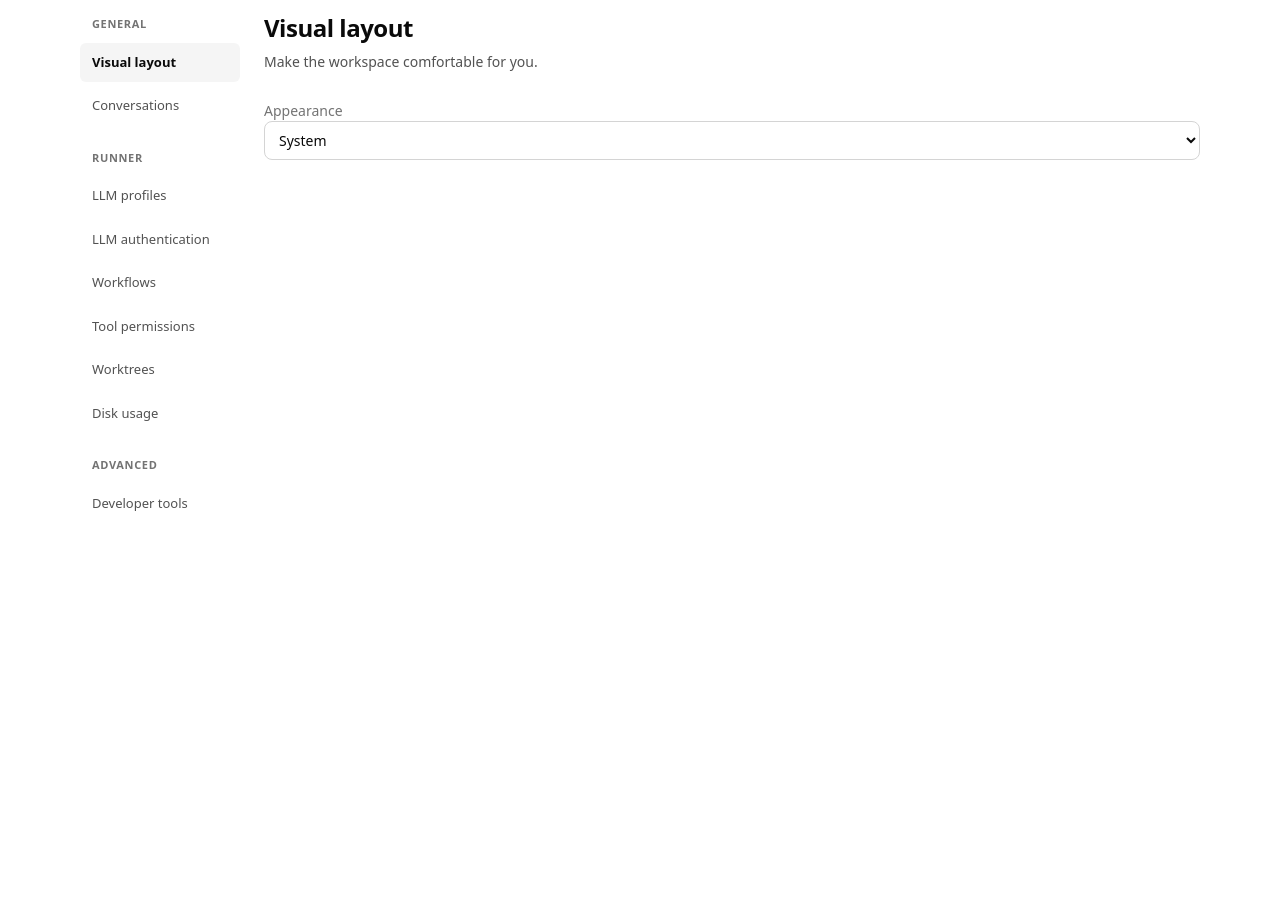
Scenario: suggestions remain advisory and failures do not block editing
Click the button "LLM profiles" at (160, 196), box [80, 176, 240, 216]
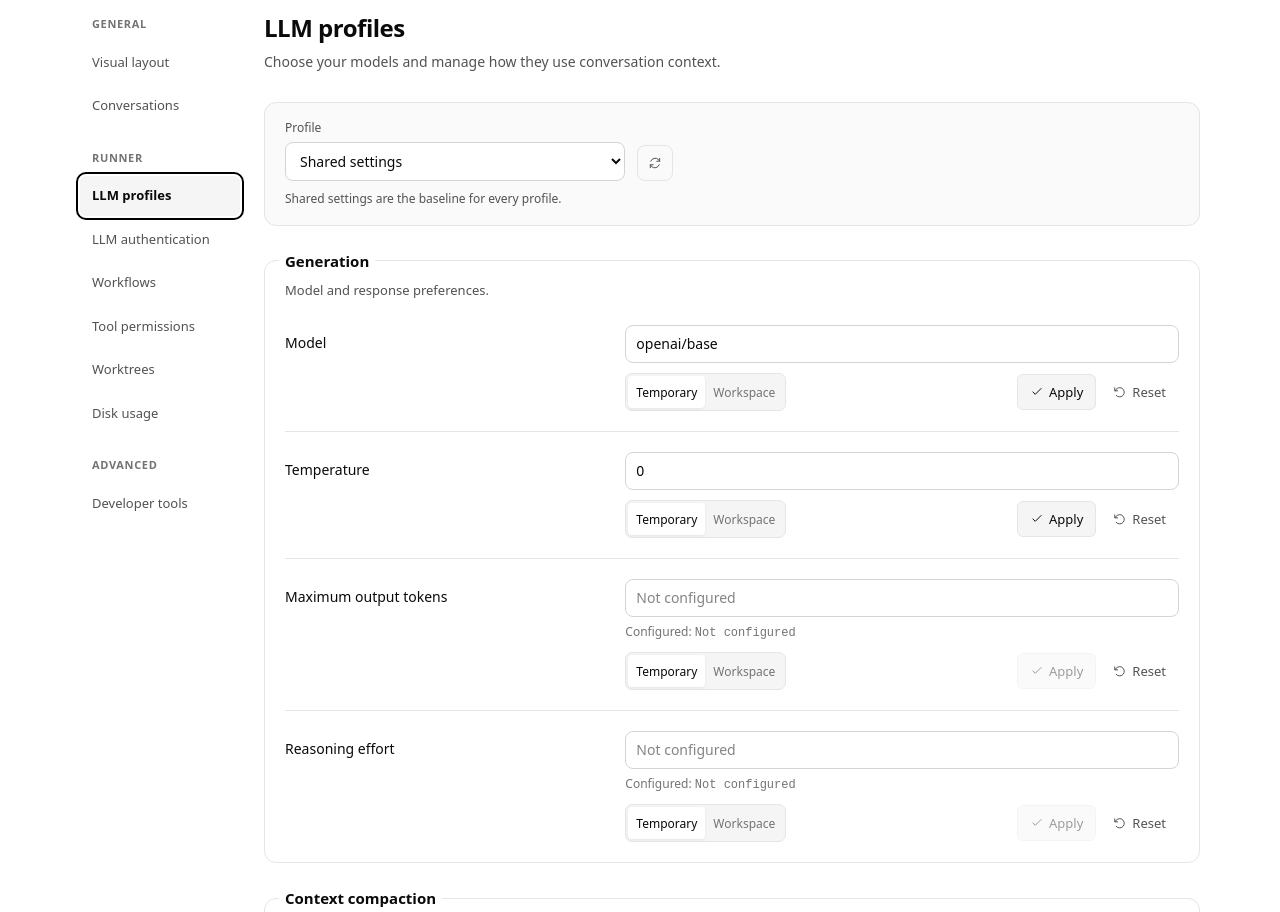
Expected: the form named "Edit Model" is shown, [285, 305, 1179, 432]
Replace the text in the field labelled "Model" with "router/vendor/custom:tag" at (902, 344), box [625, 325, 1179, 363]
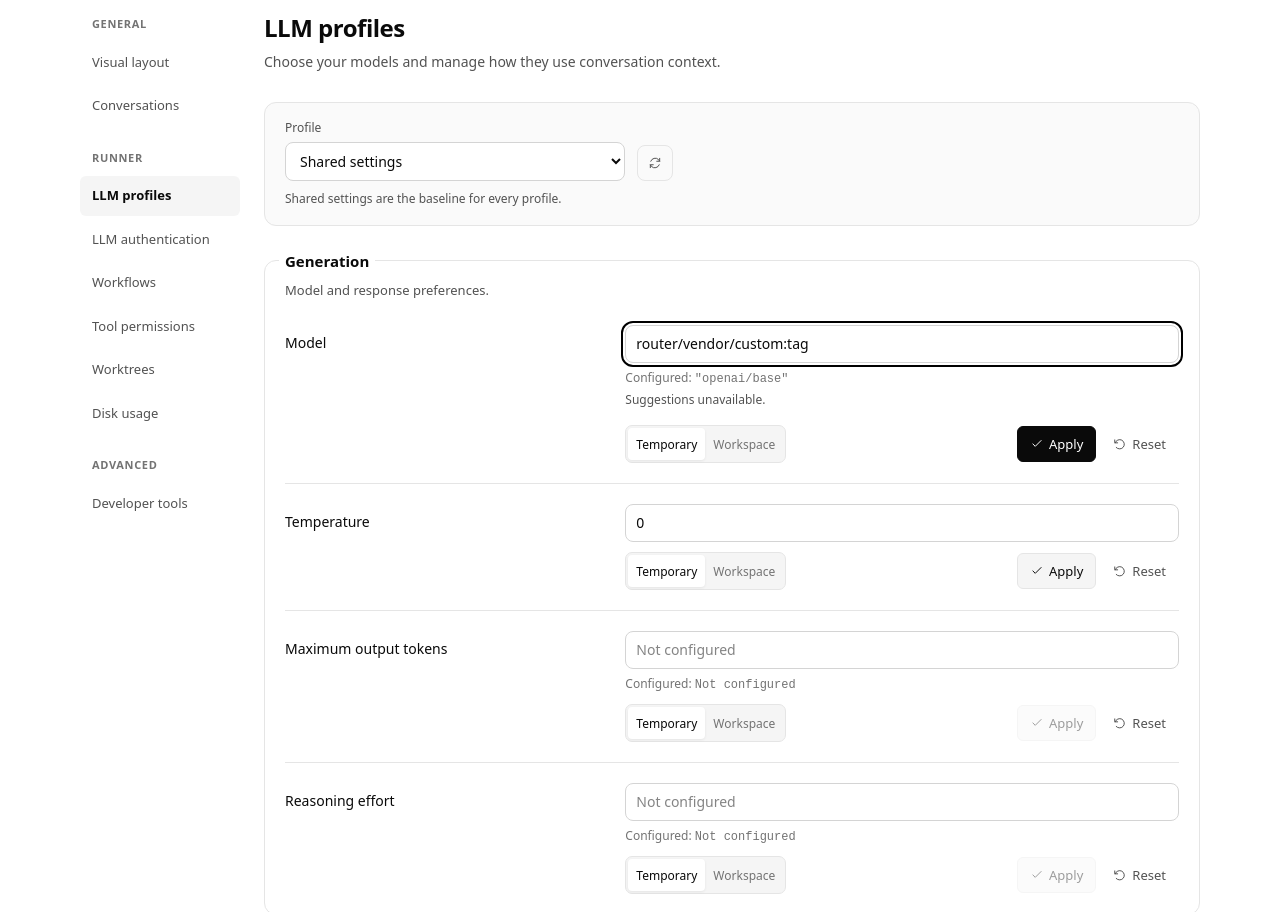
Expected: the text "Suggestions unavailable." is shown, [625, 391, 765, 408]
Click the button with aria-label "Apply model" at (1057, 444), box [1017, 426, 1096, 462]
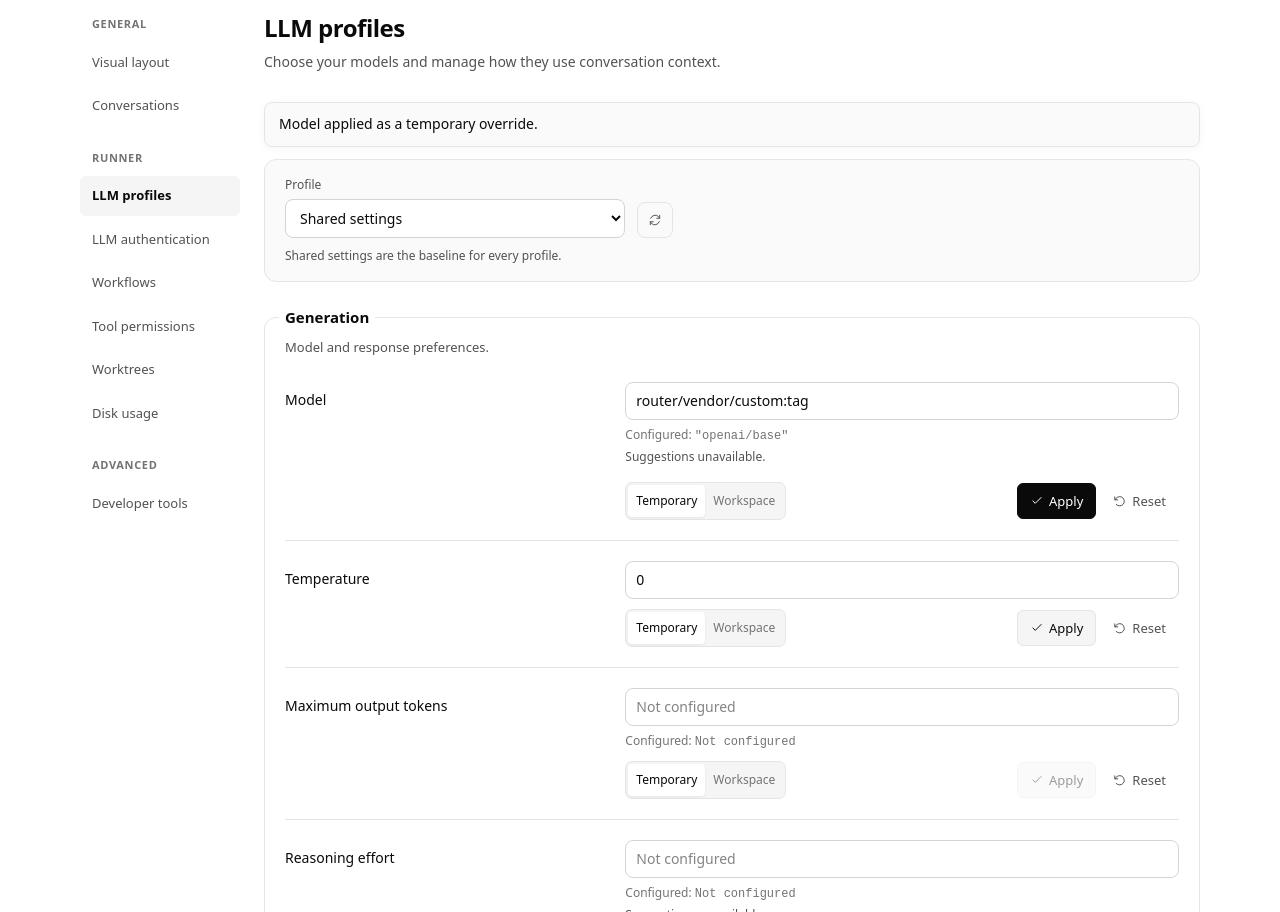
Expected: the text "Model applied as a temporary override." is shown, [264, 102, 1200, 147]
